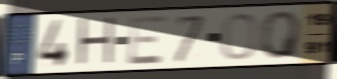4: (36, 18, 71, 70)
7: (174, 13, 207, 64)
E: (126, 14, 170, 67)
H: (75, 15, 117, 69)
O: (219, 11, 260, 62)
Q: (259, 9, 305, 61)
